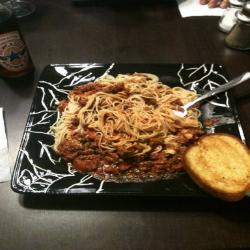bolonese_pasta: (54, 70, 201, 189)
bread: (178, 127, 250, 202)
